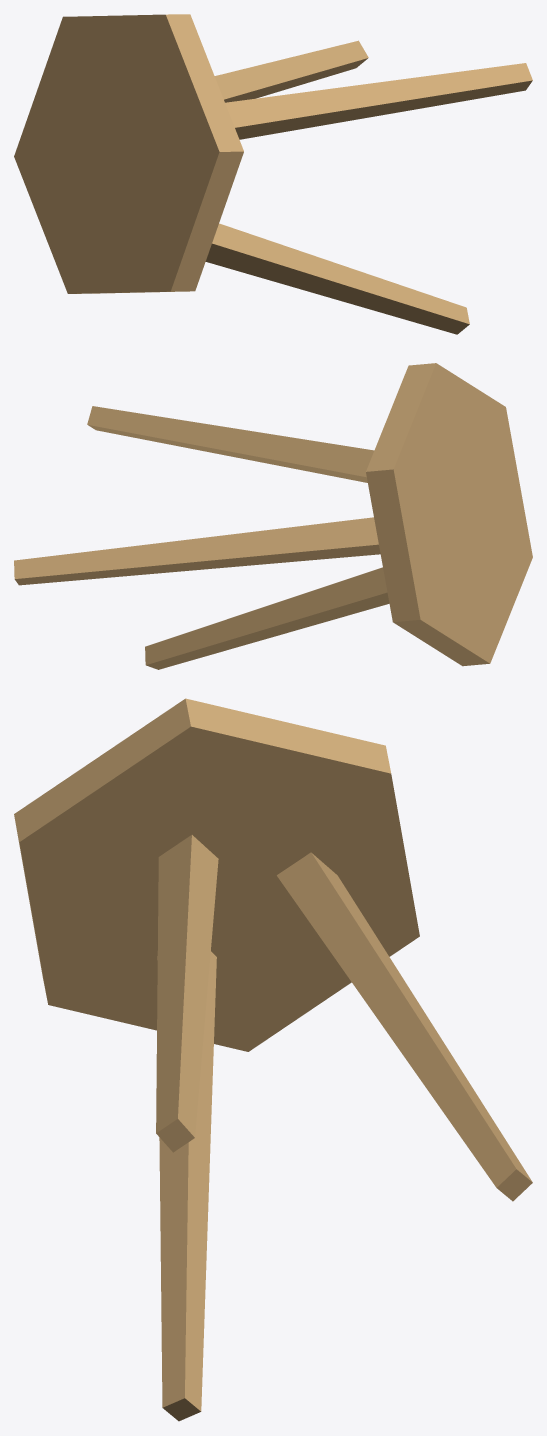
File: b_tabure.obj
The picture shows the model from 3 angles, top to bottom: view 1: azimuth 30°, elevation 25°; view 2: azimuth 150°, elevation 25°; view 3: azimuth 270°, elevation 25°; orthographic projection. The views are drawn at different scales.
Parts seen in each view (by area): view 1: chair.015_m_açıkahşap; view 2: chair.015_m_açıkahşap; view 3: chair.015_m_açıkahşap.
Boxes of the visible parts, x1,y1,x2,y2 form: chair.015_m_açıkahşap: (14, 14, 532, 334); chair.015_m_açıkahşap: (14, 363, 532, 669); chair.015_m_açıkahşap: (14, 698, 532, 1421).
Bounding box in the file's own units: 11.89 × 10.17 × 9.02.
